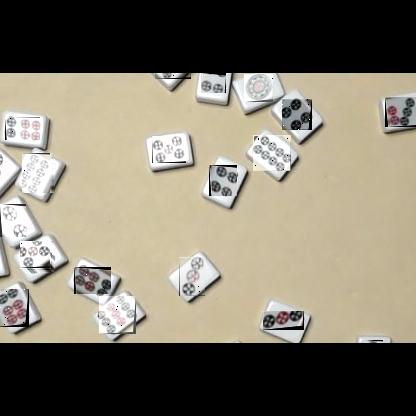1p: (244, 74, 273, 102)
2p: (0, 204, 26, 237), (363, 340, 383, 343)
3p: (179, 257, 205, 296), (263, 311, 304, 330)
4p: (282, 99, 312, 130), (209, 165, 237, 196), (201, 73, 226, 93)
5p: (21, 242, 55, 273), (152, 136, 186, 163)
6p: (0, 289, 29, 327), (74, 267, 111, 294), (5, 117, 40, 140)
7p: (385, 97, 416, 127)
8p: (253, 135, 291, 171), (23, 153, 55, 193), (154, 73, 191, 79)
9p: (99, 296, 136, 334)
